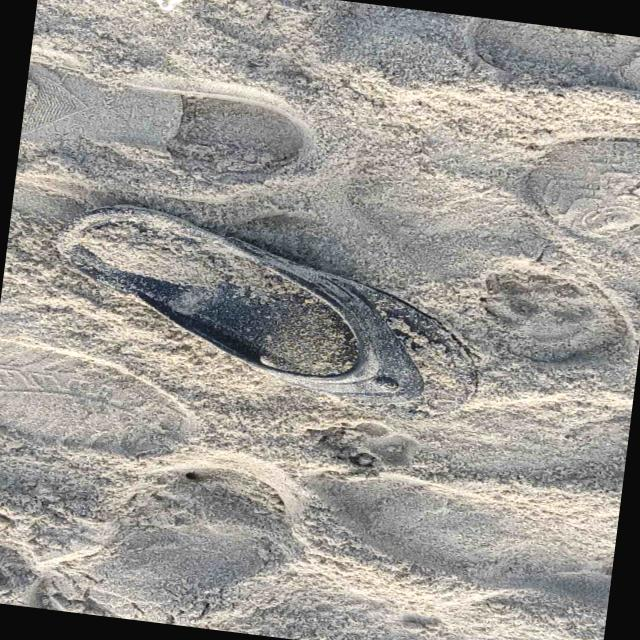dep: (57, 204, 477, 417)
